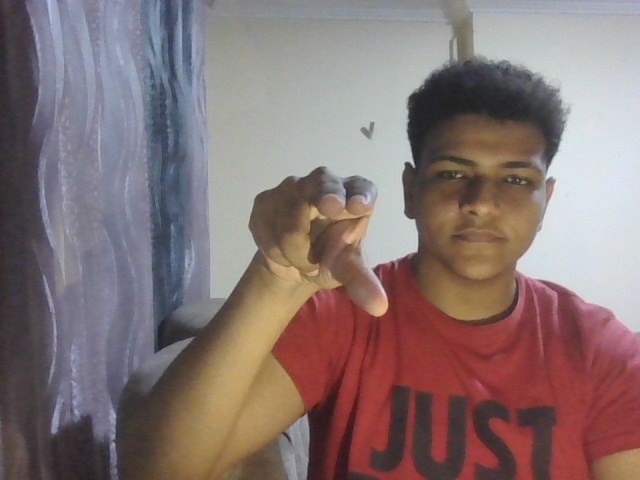no: (241, 146, 395, 354)
